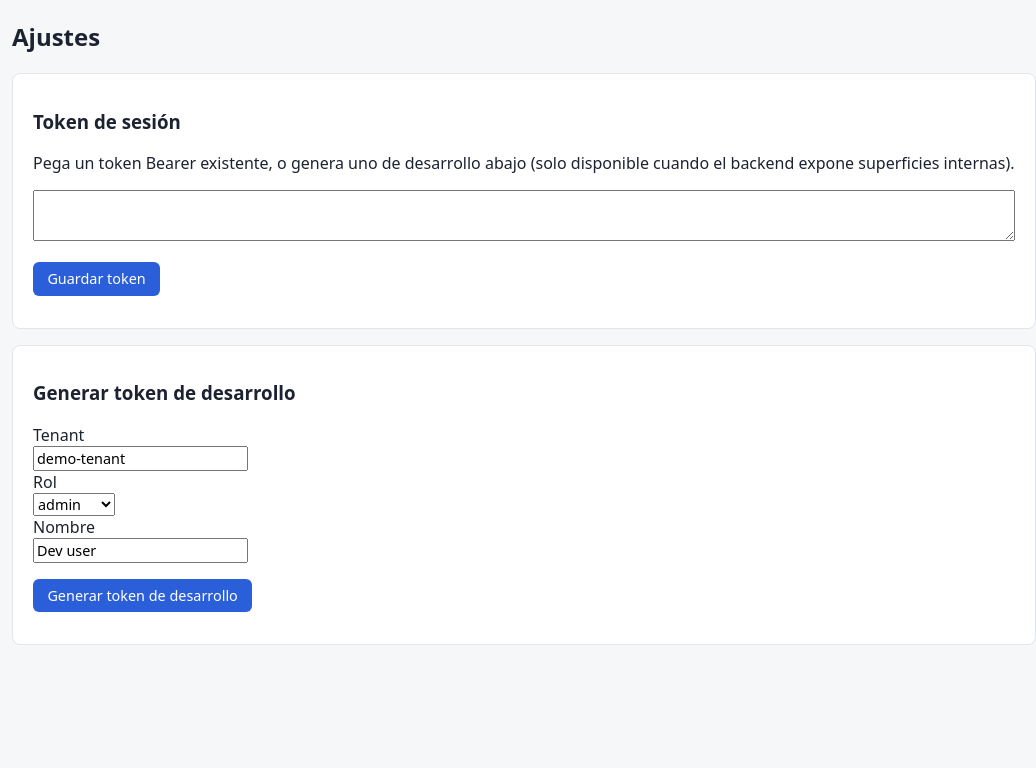
Test: Settings › validates a pasted token against /v1/identity/me
The image size is (1036, 768).
Type "some-token" into the text box.
click(524, 216); type("some-token")  # box [33,190,1015,241]
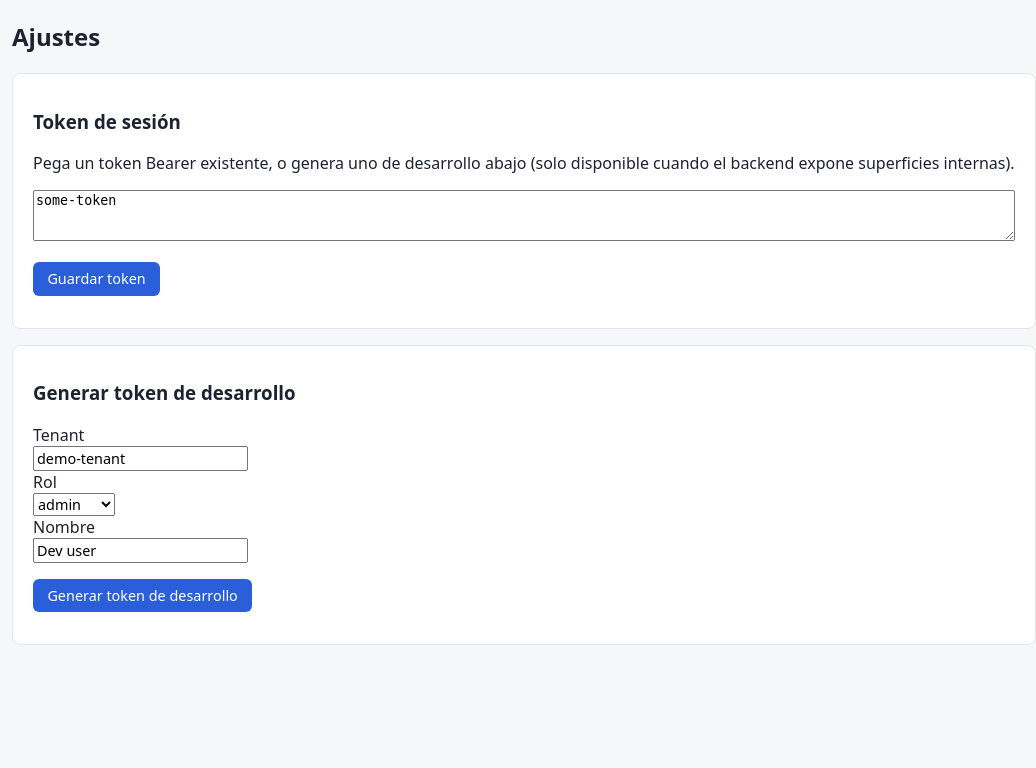
Click the button "Guardar token".
click(97, 279)  # box [33,262,160,296]
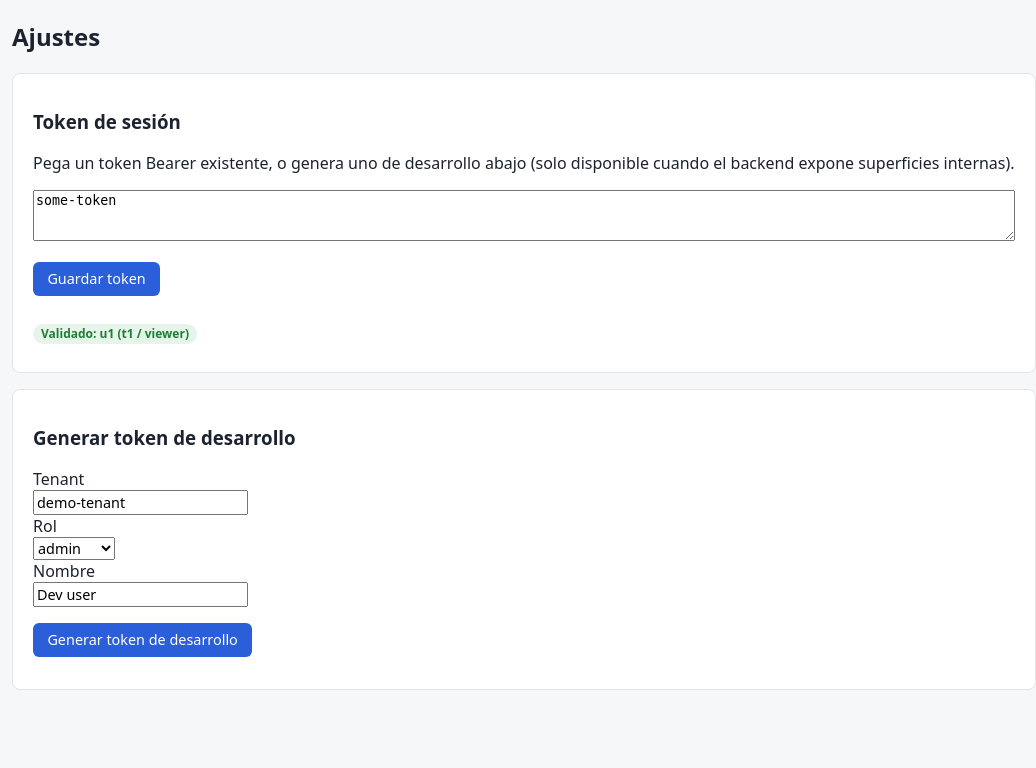
Expected: the text "Validado: u1 (t1 / viewer)" is shown, [33,324,197,344]
